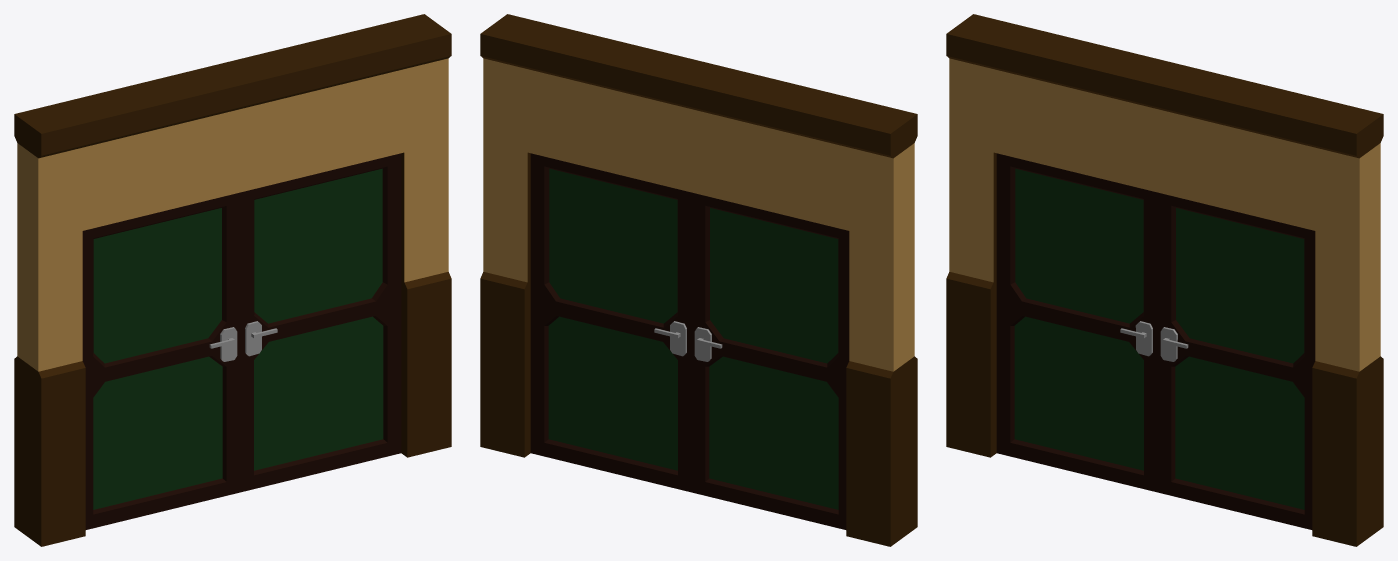
The model's file is Door4.fbx.
3 views of the same model, side by side, from view 1: azimuth 30°, elevation 25°; view 2: azimuth 150°, elevation 25°; view 3: azimuth 330°, elevation 25° (orthographic).
Parts seen in each view (by area): view 1: Edge, Door2, Door1; view 2: Edge, Door2, Door1; view 3: Edge, Door1, Door2.
Boxes of the visible parts, x1,y1,x2,y2 form: Edge: (14,14,451,546); Door2: (240,153,401,492); Door1: (82,192,240,529); Edge: (480,14,917,546); Door2: (530,153,691,492); Door1: (691,192,849,529); Edge: (946,14,1383,546); Door1: (996,153,1157,492); Door2: (1157,192,1315,529).
Size of the model in its own units: 510 by 58.39 by 491.
